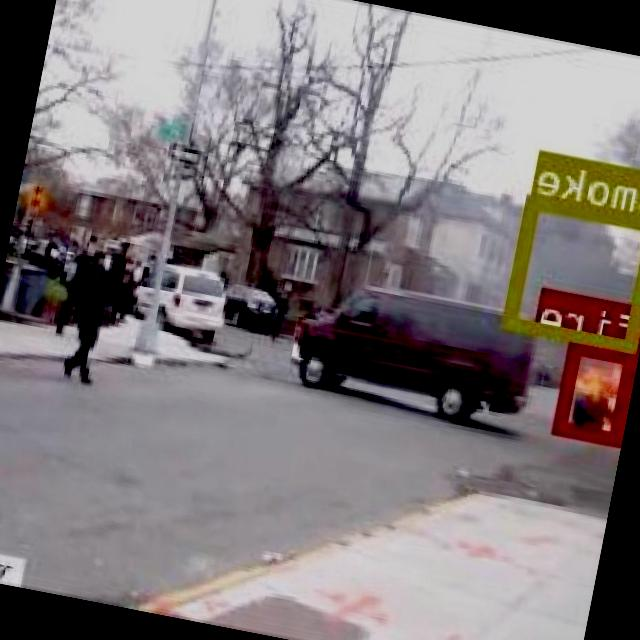fire: (557, 338, 640, 444)
smoke: (504, 194, 640, 351)
